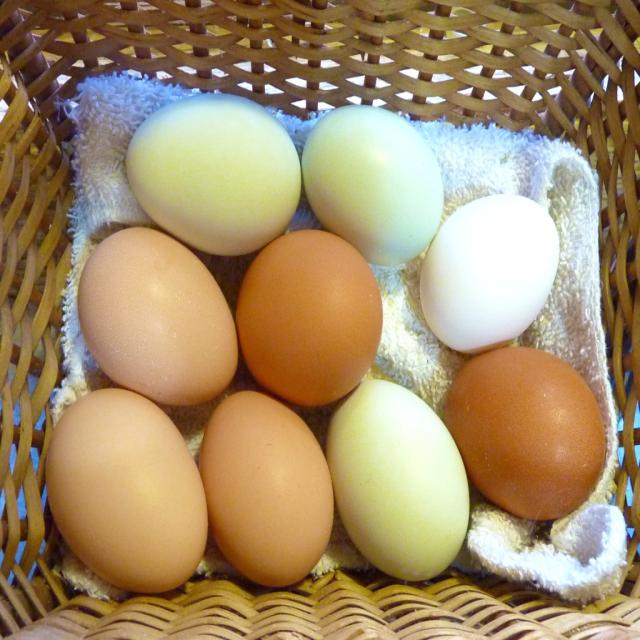Egg: (43, 173, 549, 593), (326, 373, 488, 587), (48, 393, 210, 600), (114, 93, 309, 257), (75, 219, 237, 406), (241, 227, 387, 410), (416, 189, 567, 361)
